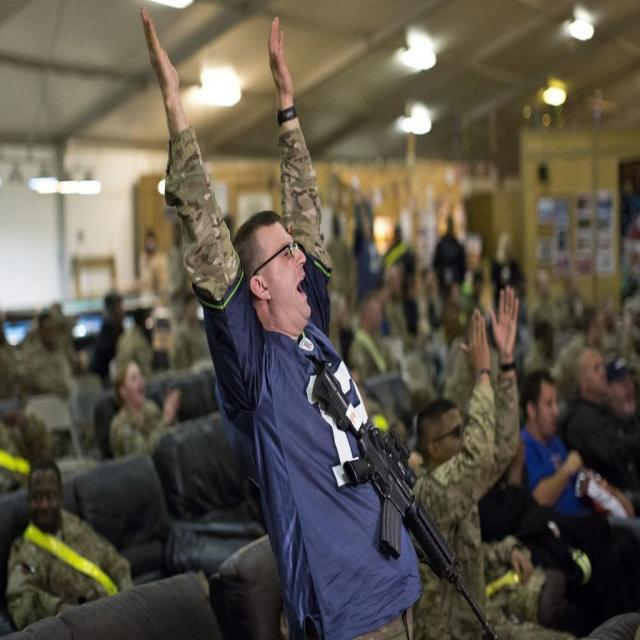weapon: (309, 359, 506, 628)
